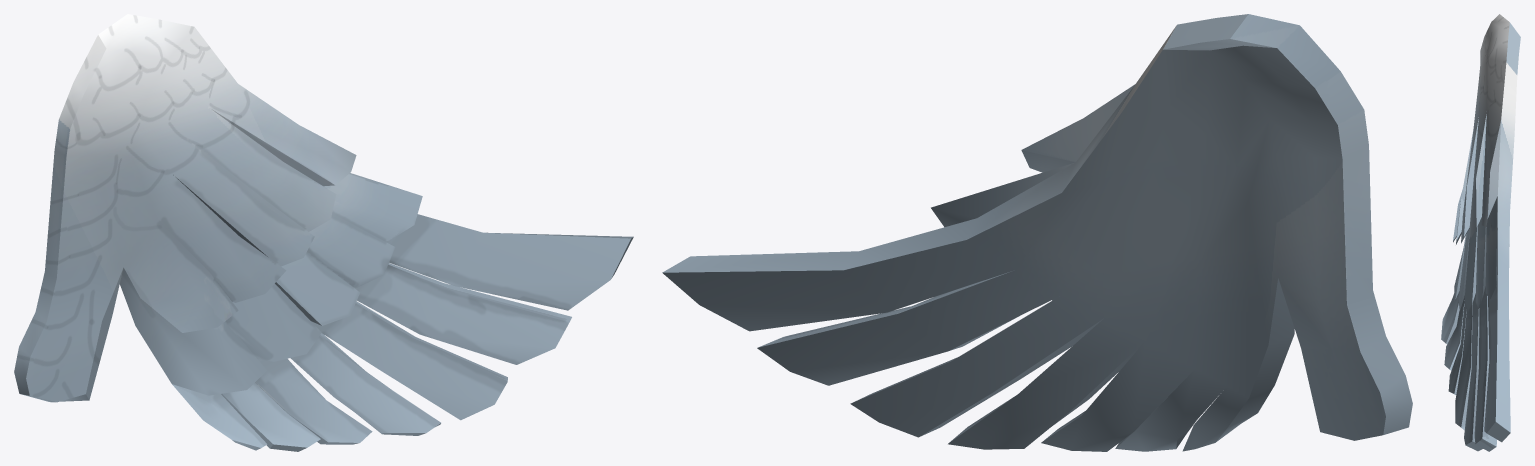
The model's file is Wing.gltf.
The picture shows the model from 3 angles, left to right: view 1: azimuth 30°, elevation 25°; view 2: azimuth 150°, elevation 25°; view 3: azimuth 270°, elevation 25°; orthographic projection. The views are drawn at different scales.
Visible parts, largest first — view 1: Cube; view 2: Cube; view 3: Cube.
Part boxes in pixels (x1,y1,x2,y2): Cube: (14, 14, 633, 451); Cube: (662, 14, 1412, 451); Cube: (1441, 14, 1520, 451).
Bounding box in the file's own units: 2.14 × 1.49 × 0.3365.
1 material, 1 textured.
